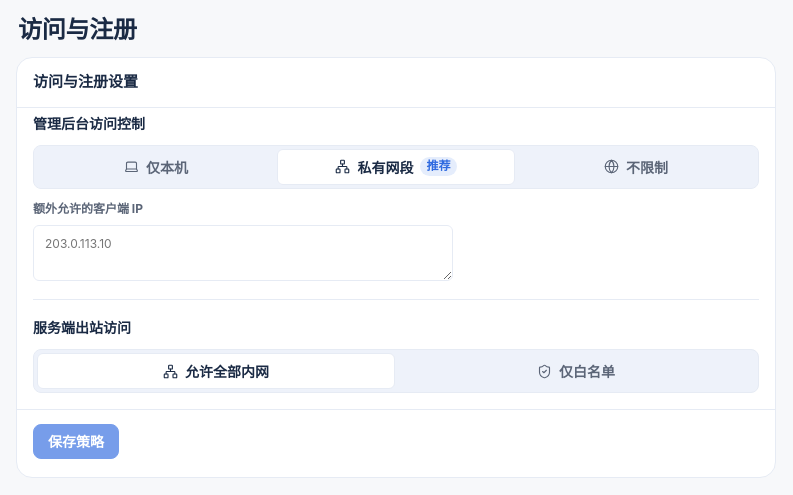
Test: 访问与注册（拆页后的独立页） › 无改动时「保存策略」禁用；改访问来源后启用，确认后只提交策略域
The image size is (793, 495).
Expected: the button "保存策略" is disabled, x1=33 y1=424 x2=119 y2=459
Click the radio button with class "ac-seg__item" showing "不限制": [636, 167] box x1=517 y1=149 x2=755 y2=185
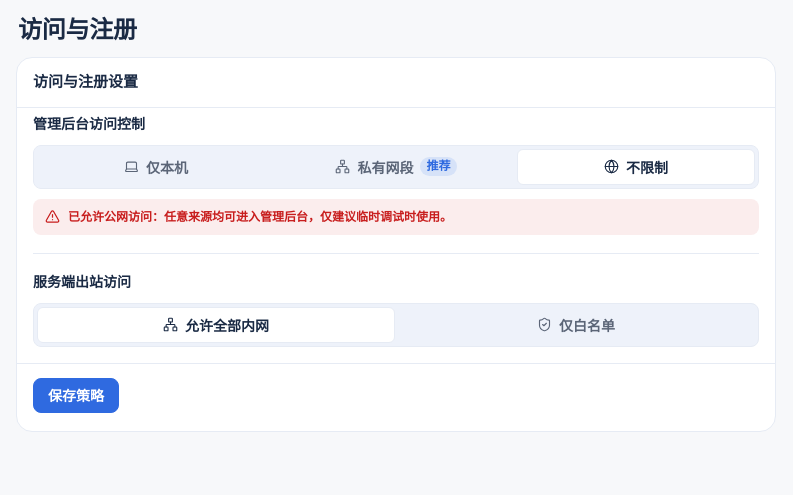
Expected: the button "保存策略" is enabled
Click the button "保存策略": [76, 395] box x1=33 y1=378 x2=119 y2=413
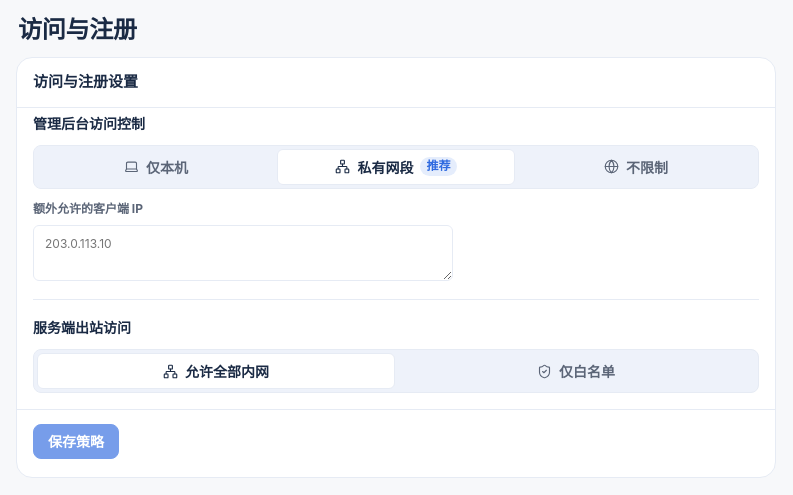
Expected: the button "保存策略" is disabled, x1=33 y1=424 x2=119 y2=459
